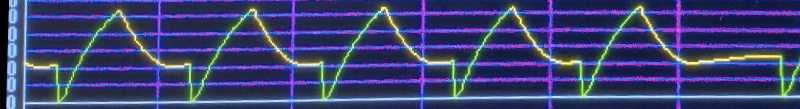leakage: (11, 0, 800, 106)
